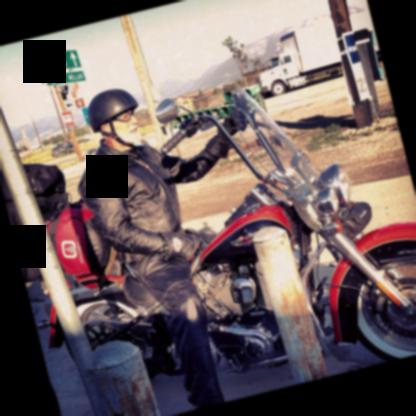suitcase: (3, 192, 72, 281)
